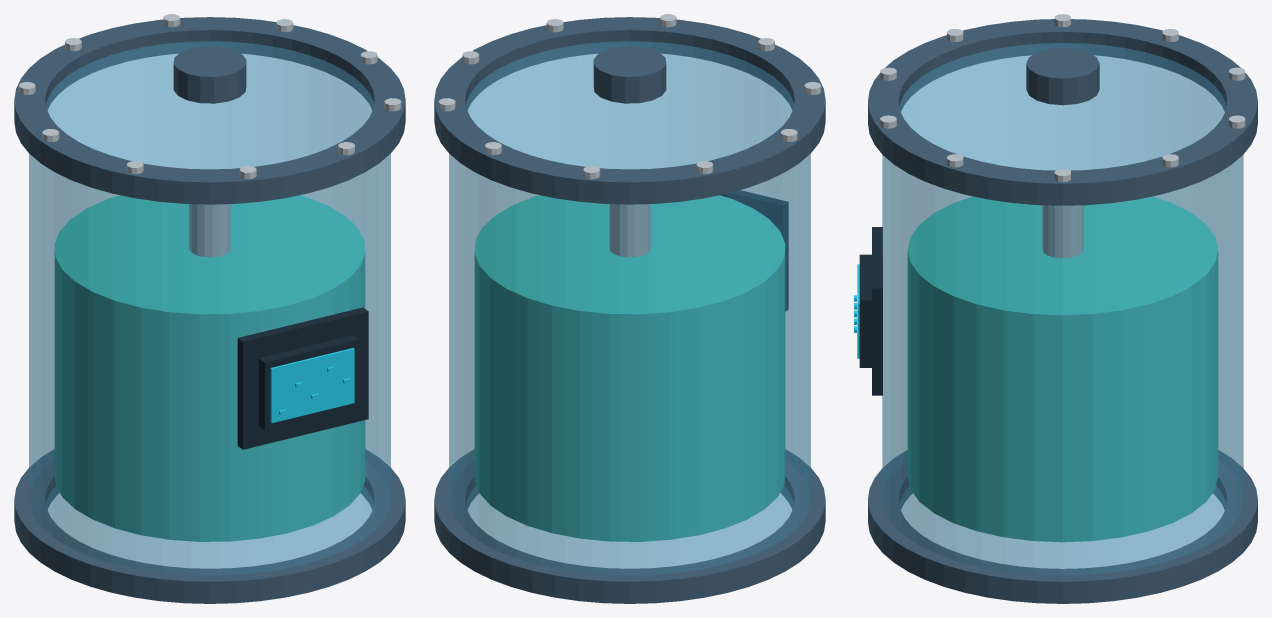
The model's file is 15_L76_ElectrolyteMixingVessel.fbx.
3 views of the same model, side by side, from view 1: azimuth 30°, elevation 25°; view 2: azimuth 150°, elevation 25°; view 3: azimuth 270°, elevation 25° (orthographic).
Visible parts, largest first — view 1: ElectrolyteMixingVessel, ElectrolyteMixingVessel_Part_0023; view 2: ElectrolyteMixingVessel, ElectrolyteMixingVessel_Part_0023; view 3: ElectrolyteMixingVessel, ElectrolyteMixingVessel_Part_0023.
Boxes of the visible parts, x1=… form: ElectrolyteMixingVessel: x1=14, y1=14, x2=405, y2=603; ElectrolyteMixingVessel_Part_0023: x1=189, y1=204, x2=230, y2=257; ElectrolyteMixingVessel: x1=434, y1=14, x2=825, y2=603; ElectrolyteMixingVessel_Part_0023: x1=609, y1=204, x2=650, y2=257; ElectrolyteMixingVessel: x1=854, y1=14, x2=1257, y2=603; ElectrolyteMixingVessel_Part_0023: x1=1042, y1=205, x2=1083, y2=258.
Bounding box in the file's own units: 160 × 207 × 166.
